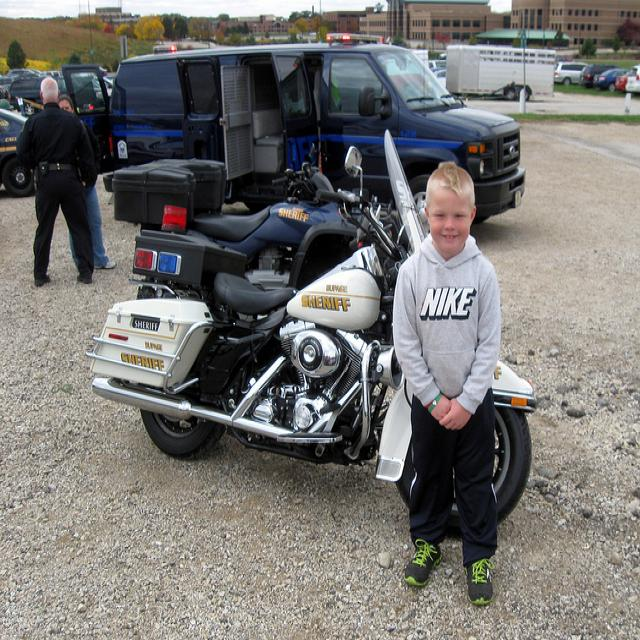motor: (90, 122, 430, 465), (194, 161, 345, 280)
